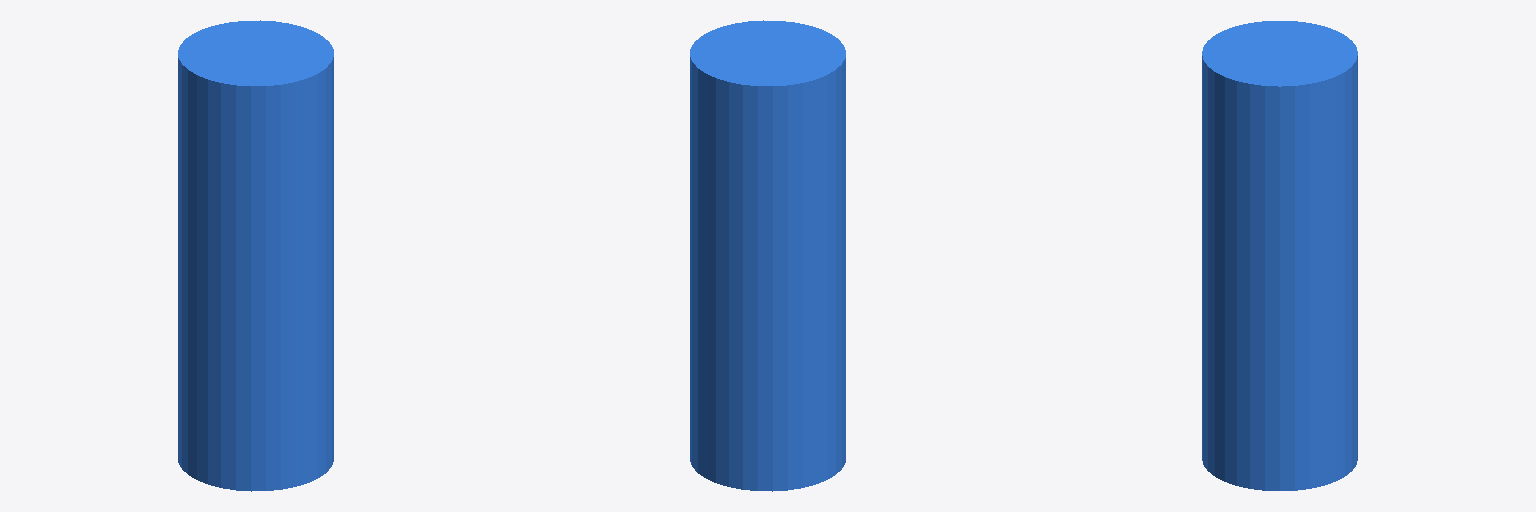
The robot description file, URDF, robot "bottle_mybottle":
<?xml version="1.0" ?>
<robot name="bottle_mybottle">
    <link name="bottle_link">
        <inertial>
            <!-- CoM = link origin = geometric centre of cylinder -->
            <origin rpy="0 0 0" xyz="0.0 0.0 0.0"/>
            <mass value="2.0"/>
            <!-- Solid cylinder  R=0.035 m  H=0.20 m  M=2.0 kg
                 Ixx = Iyy = M/12*(3R²+H²) = 2/12*(3*0.001225+0.04) = 0.007279
                 Izz = M/2*R²               = 1.0*0.001225           = 0.001225 -->
            <inertia ixx="0.007279" ixy="0.0" ixz="0.0"
                     iyy="0.007279" iyz="0.0"
                     izz="0.001225"/>
        </inertial>
        <visual>
            <origin rpy="0 0 0" xyz="0 0 0"/>
            <geometry>
                <cylinder radius="0.035" length="0.20"/>
            </geometry>
            <material name="LightBlue">
                <color rgba="0.3 0.6 1.0 0.85"/>
            </material>
        </visual>
        <collision>
            <origin rpy="0 0 0" xyz="0 0 0"/>
            <geometry>
                <cylinder radius="0.035" length="0.20"/>
            </geometry>
        </collision>
    </link>
</robot>

--- Render facts (derived) ---
The picture shows the robot from 3 angles, left to right: view 1: azimuth 30°, elevation 25°; view 2: azimuth 150°, elevation 25°; view 3: azimuth 270°, elevation 25°; orthographic projection.
Robot: bottle_mybottle — 1 links, 0 joints (none); root link bottle_link; default pose: all joints at 0.
Visible links, largest first — view 1: bottle_link; view 2: bottle_link; view 3: bottle_link.
Link boxes in pixels (x1,y1,x2,y2): bottle_link: (178,20,333,491); bottle_link: (690,20,845,491); bottle_link: (1202,21,1357,490).
Size in the robot's own frame: 0.07 by 0.07 by 0.2 metres.
Geometry: primitives only (box / cylinder / sphere), no mesh files.
